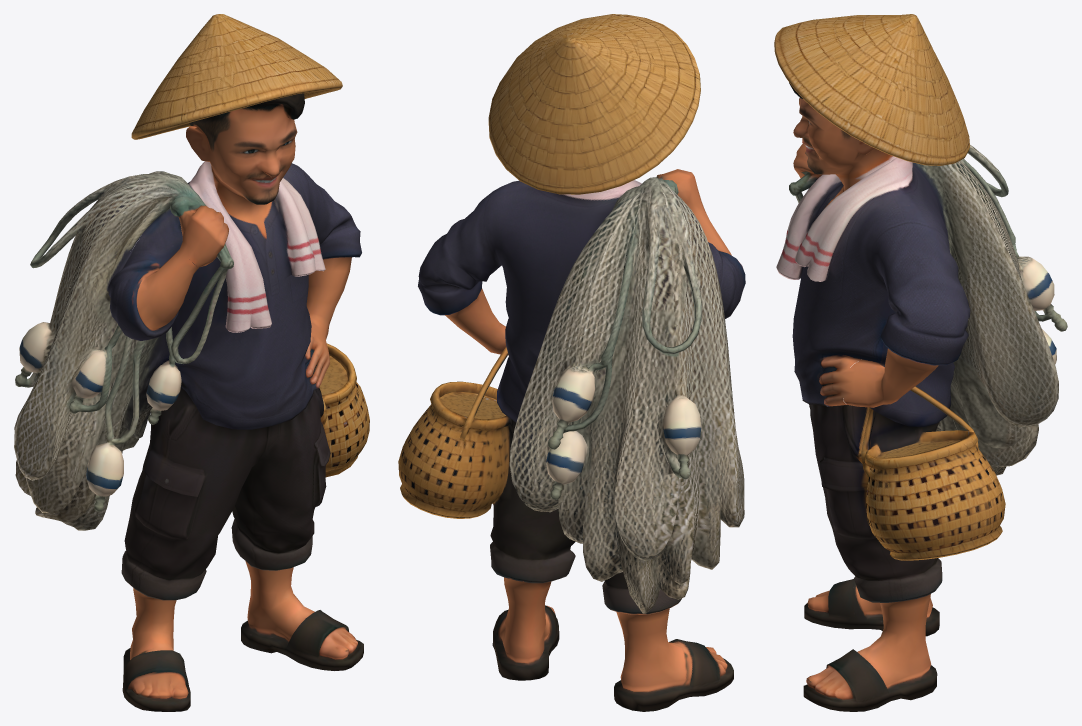
Rendered from PokWan_source.glb.
The picture shows the model from 3 angles, left to right: view 1: azimuth 30°, elevation 25°; view 2: azimuth 150°, elevation 25°; view 3: azimuth 270°, elevation 25°; orthographic projection.
Parts seen in each view (by area): view 1: tripo_9f0f5e32_ba00_4195_b9a0_b0a3983326e3; view 2: tripo_9f0f5e32_ba00_4195_b9a0_b0a3983326e3; view 3: tripo_9f0f5e32_ba00_4195_b9a0_b0a3983326e3.
Part boxes in pixels (x1=…): tripo_9f0f5e32_ba00_4195_b9a0_b0a3983326e3: x1=14, y1=14, x2=369, y2=711; tripo_9f0f5e32_ba00_4195_b9a0_b0a3983326e3: x1=398, y1=14, x2=745, y2=711; tripo_9f0f5e32_ba00_4195_b9a0_b0a3983326e3: x1=774, y1=14, x2=1067, y2=711.
Bounding box in the file's own units: 0.5522 × 0.9995 × 0.4106.
Materials: 1 (1 with a texture image).
